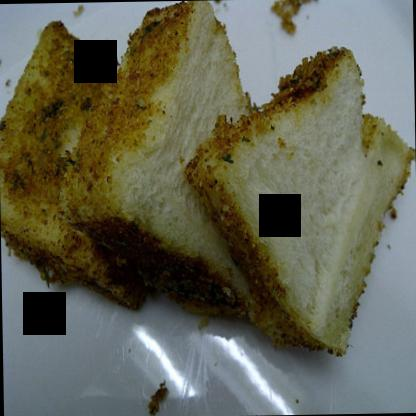toast bread: (202, 45, 415, 349), (74, 0, 248, 301), (0, 20, 131, 307)
